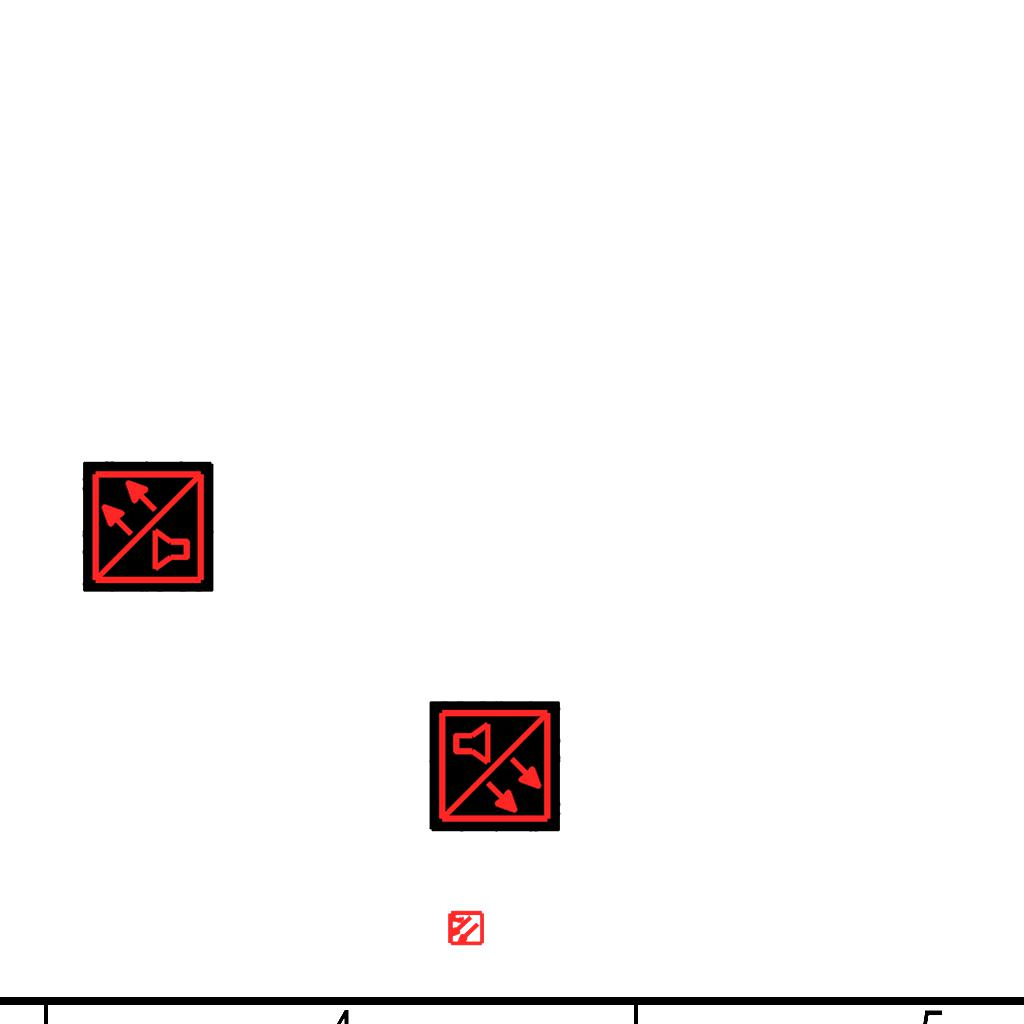OKW_Multisensormelder_(Kombination_optischer_Rauch-Kahlenmonoxid_Waerme-Melder): (82, 460, 214, 592), (429, 701, 561, 833)
OT_Multisensormelder_(Kombination_RMO_WMD): (437, 900, 493, 956)
